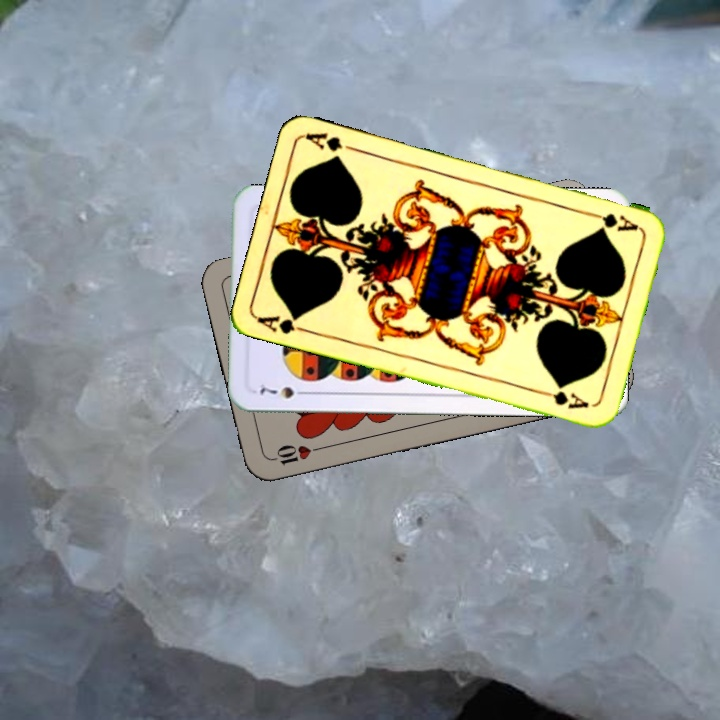GA: (584, 207, 641, 235), (254, 311, 313, 337)
H10: (267, 441, 326, 469)
S7: (255, 380, 311, 401)
